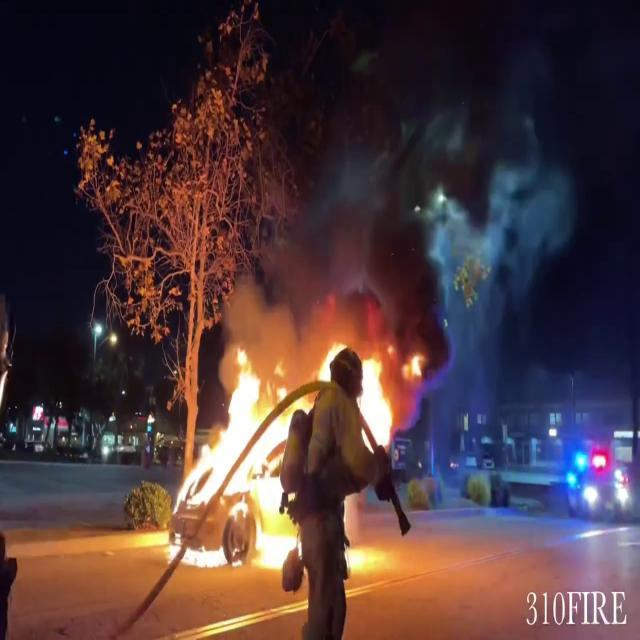Fire: (166, 318, 424, 583), (165, 345, 308, 580)
Smoke: (248, 0, 634, 355)
